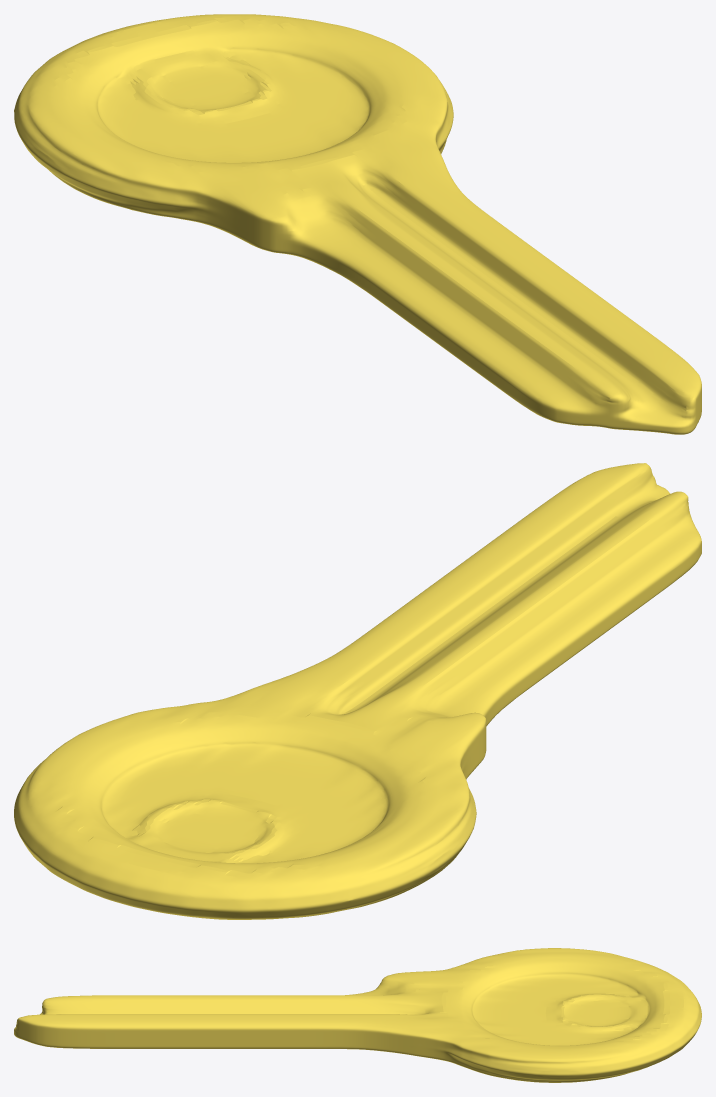
Rendered from Key_Blank_2.fbx.
3 views of the same model, one above another, from view 1: azimuth 30°, elevation 25°; view 2: azimuth 150°, elevation 25°; view 3: azimuth 270°, elevation 25° (orthographic). The views are drawn at different scales.
Parts seen in each view (by area): view 1: Cube; view 2: Cube; view 3: Cube.
Boxes of the visible parts, <box> form: Cube: <box>14,14,701,434</box>; Cube: <box>14,463,701,919</box>; Cube: <box>14,948,701,1082</box>.
Bounding box in the file's own units: 193 × 21.01 × 469.
